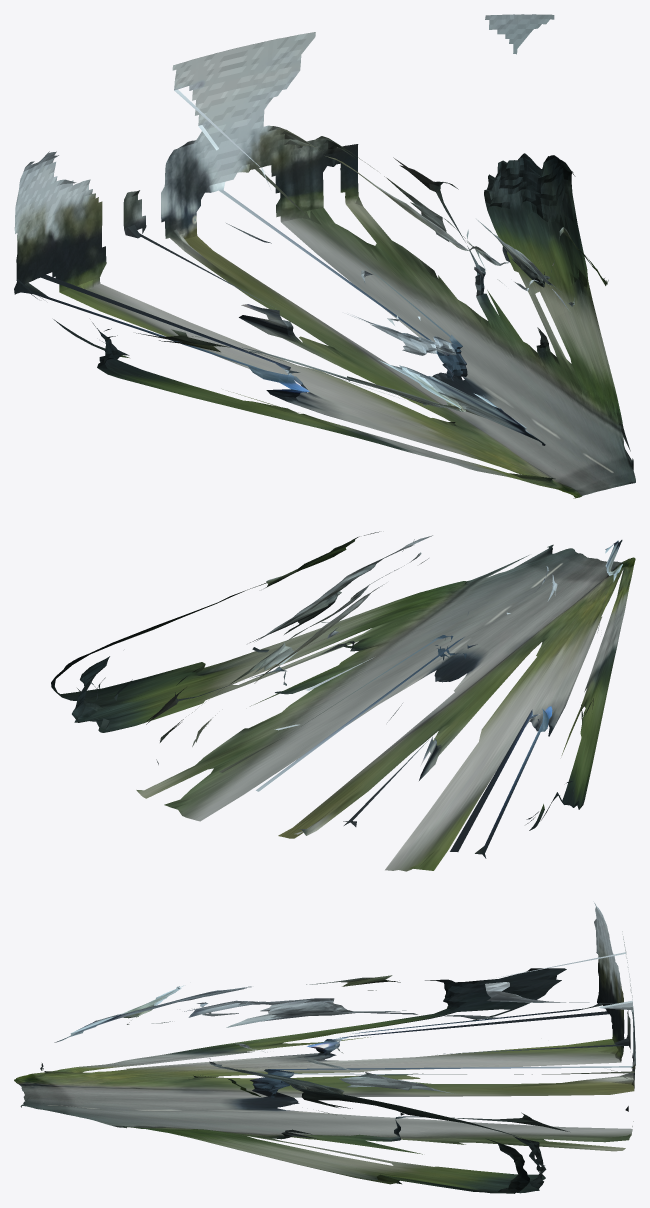
3 renders of one model, top to bottom at view 1: azimuth 30°, elevation 25°; view 2: azimuth 150°, elevation 25°; view 3: azimuth 270°, elevation 25°, orthographic. The views are drawn at different scales.
Parts seen in each view (by area): view 1: defaultobject; view 2: defaultobject; view 3: defaultobject.
Boxes of the visible parts, x1,y1,x2,y2 form: defaultobject: (14, 14, 635, 498); defaultobject: (51, 531, 635, 871); defaultobject: (14, 901, 635, 1193).
Bounding box in the file's own units: 37.11 × 13.16 × 45.14.
Materials: 1 (1 with a texture image).
